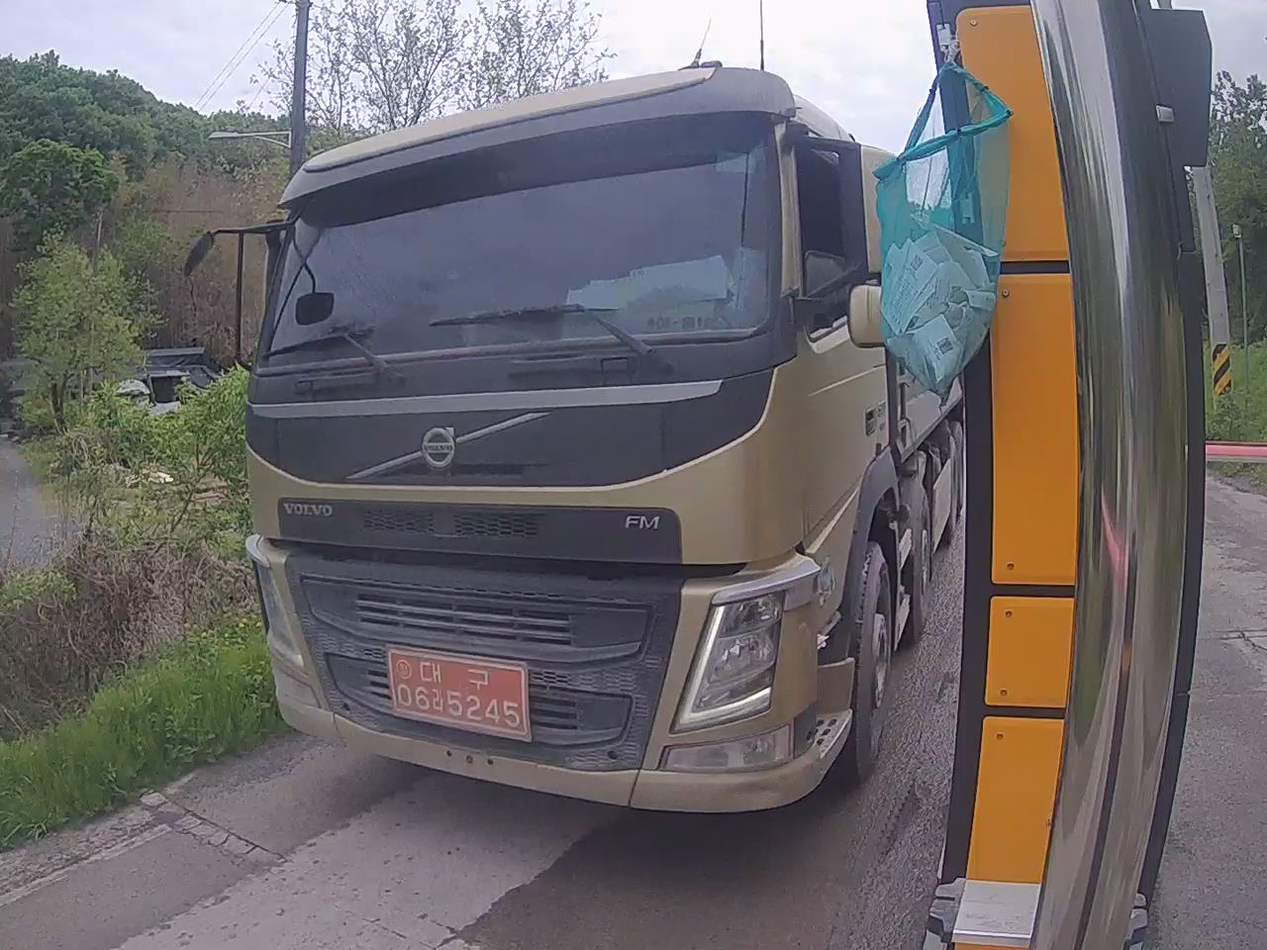license_plate: (389, 648, 530, 740)
truck: (235, 65, 963, 811)
